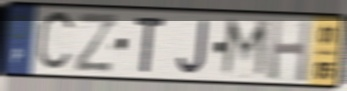C: (34, 7, 78, 76)
H: (266, 17, 313, 85)
J: (175, 17, 211, 77)
M: (219, 16, 272, 82)
T: (133, 15, 167, 76)
Z: (73, 11, 120, 74)
